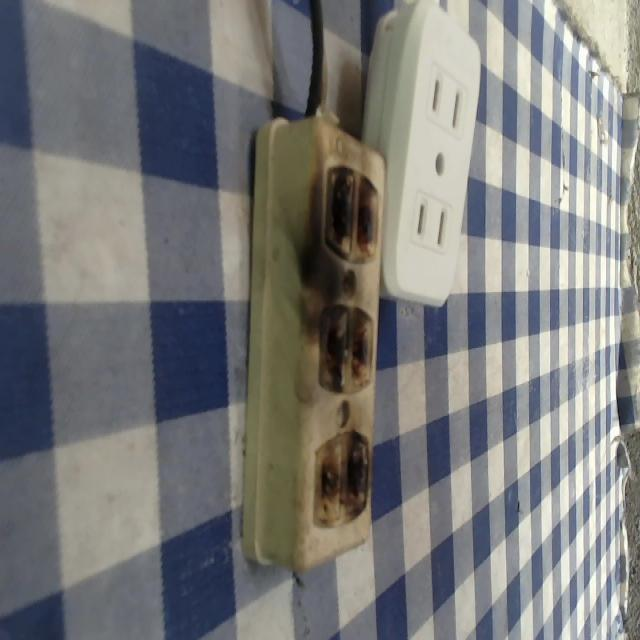-: (307, 424, 372, 527), (321, 159, 380, 264), (314, 297, 375, 392)
